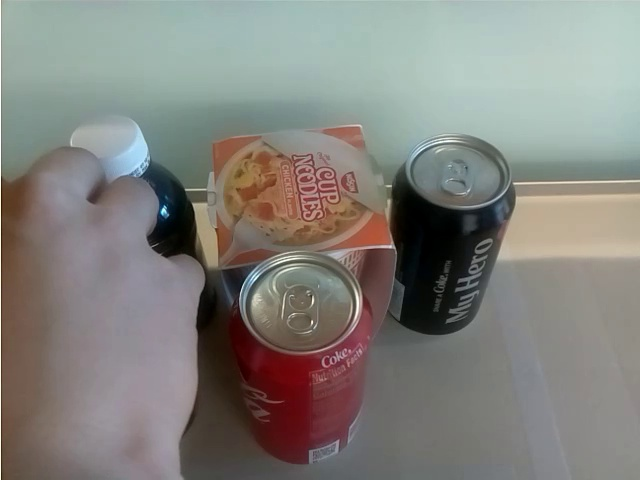cocacola: (226, 250, 374, 466)
cocacola-zero: (391, 133, 517, 334)
hand: (1, 146, 205, 480)
juice: (69, 114, 198, 264)
noodles: (204, 125, 397, 329)
